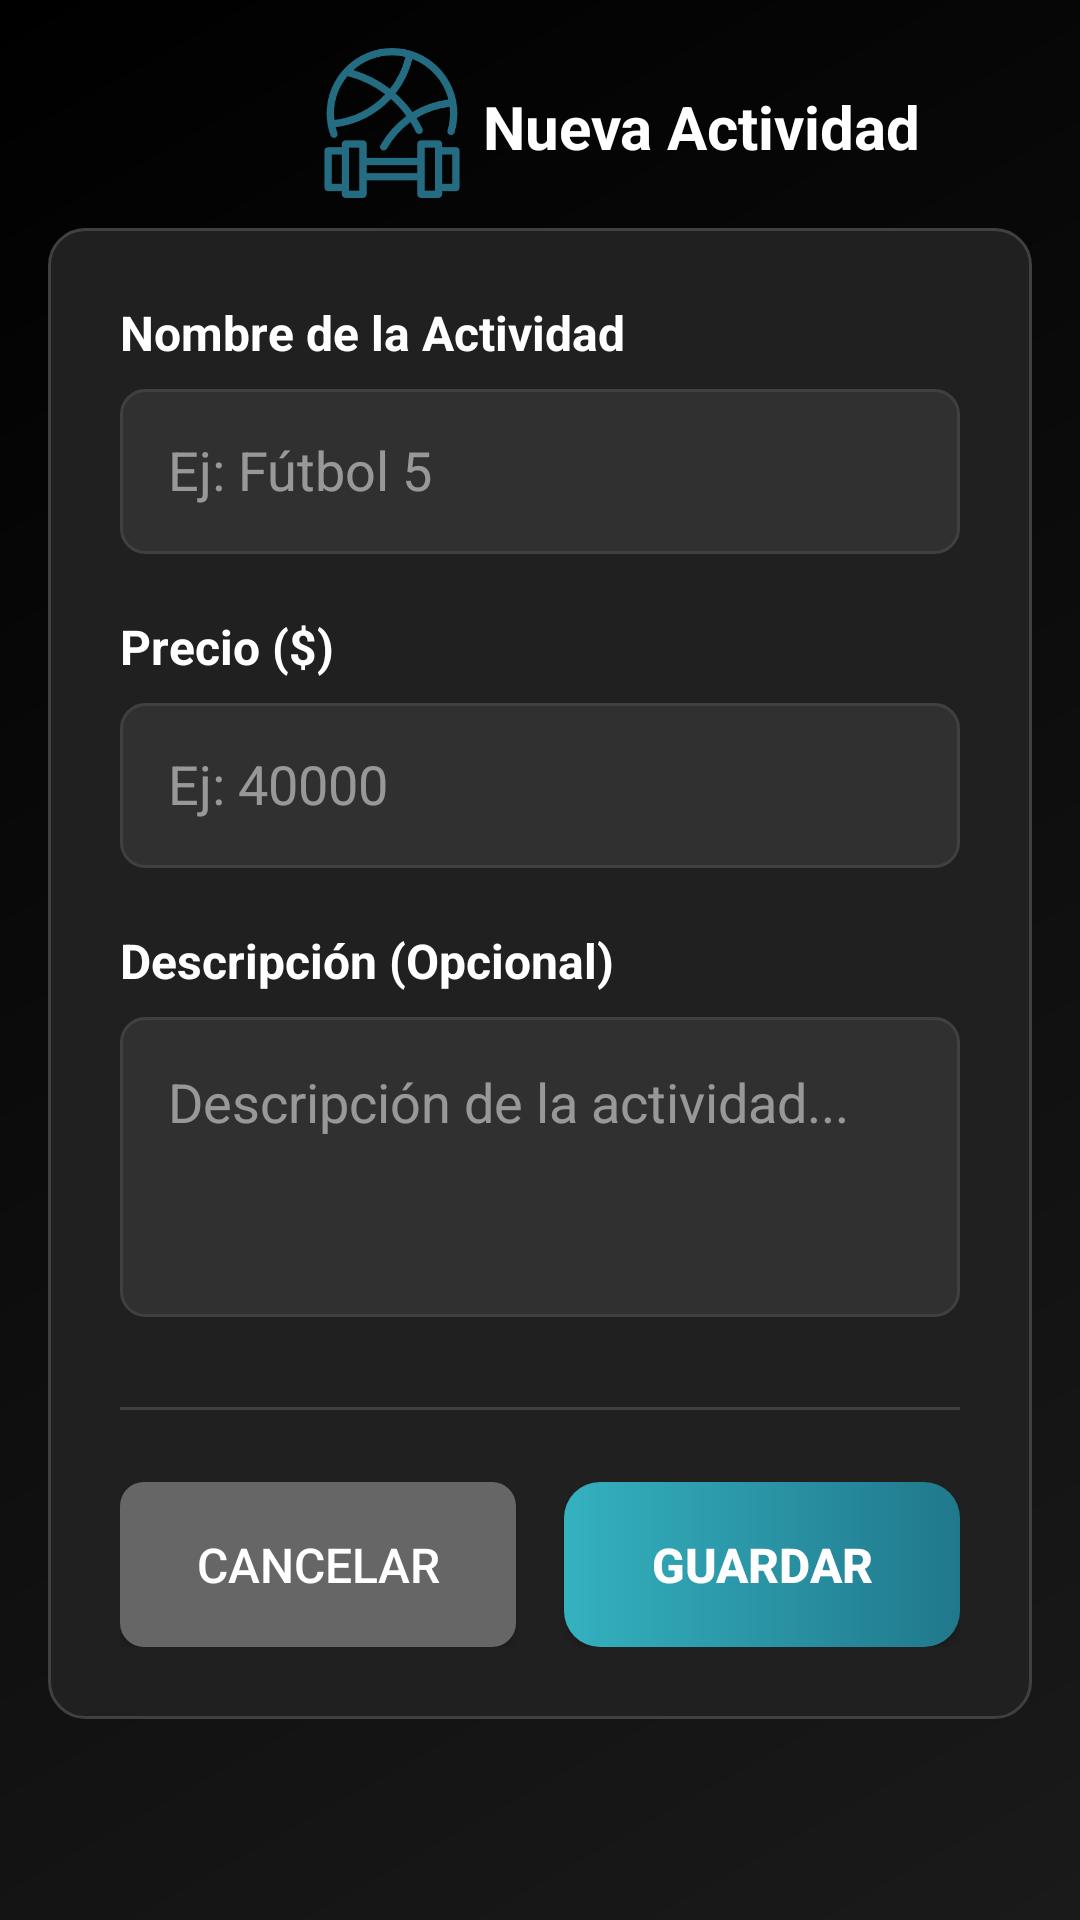

Icons on this 1080*1920 Android screen, each with the point to tap as [x,y]:
sport: [392,123]
